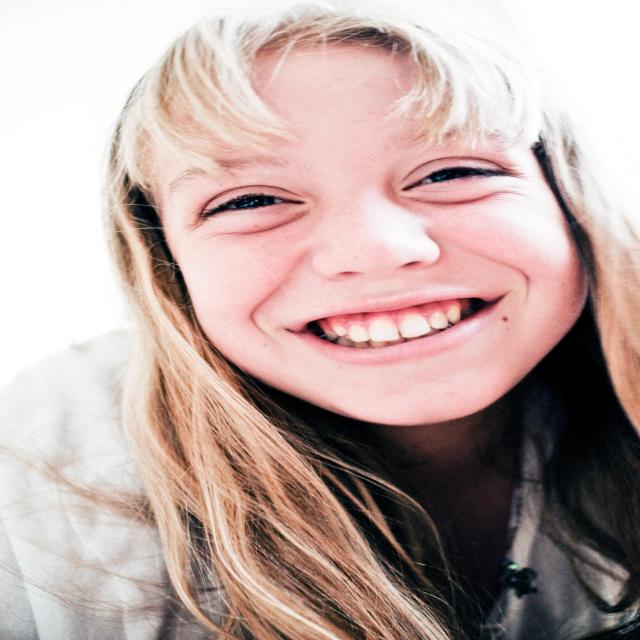no-glass: (199, 156, 514, 233)
